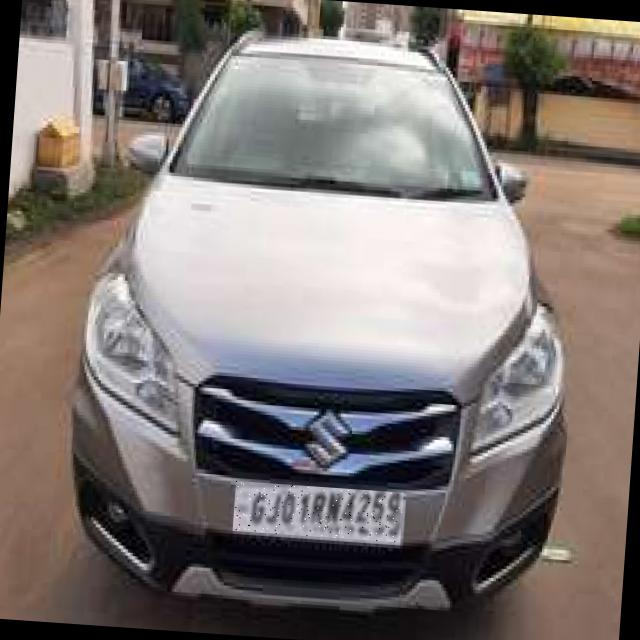Plate: (233, 482, 404, 544)
